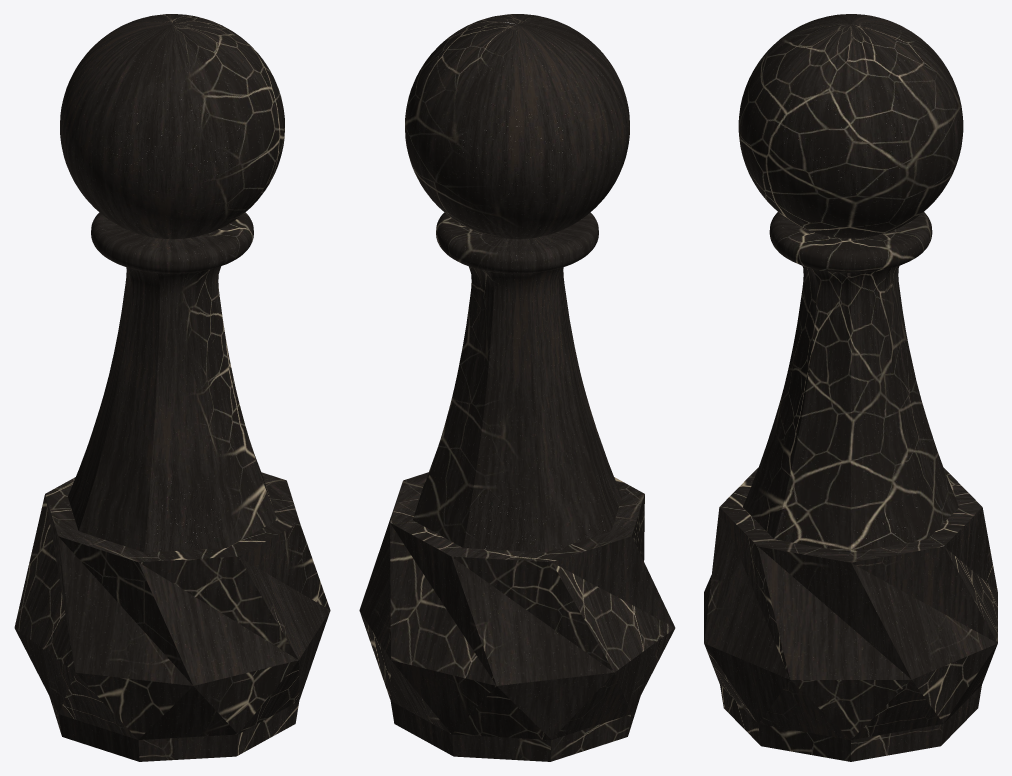
Rendered from pawn-black.glb.
3 views of the same model, side by side, from view 1: azimuth 30°, elevation 25°; view 2: azimuth 150°, elevation 25°; view 3: azimuth 270°, elevation 25° (orthographic).
Visible parts, largest first — view 1: Lithoxyl_Pawn_Onyx; view 2: Lithoxyl_Pawn_Onyx; view 3: Lithoxyl_Pawn_Onyx.
Part boxes in pixels (left/top/right/bottom): Lithoxyl_Pawn_Onyx: left=14, top=14, right=330, bottom=761; Lithoxyl_Pawn_Onyx: left=359, top=14, right=675, bottom=761; Lithoxyl_Pawn_Onyx: left=704, top=14, right=997, bottom=761.
Bounding box in the file's own units: 0.3739 × 0.96 × 0.3739.
1 material, 1 textured.
